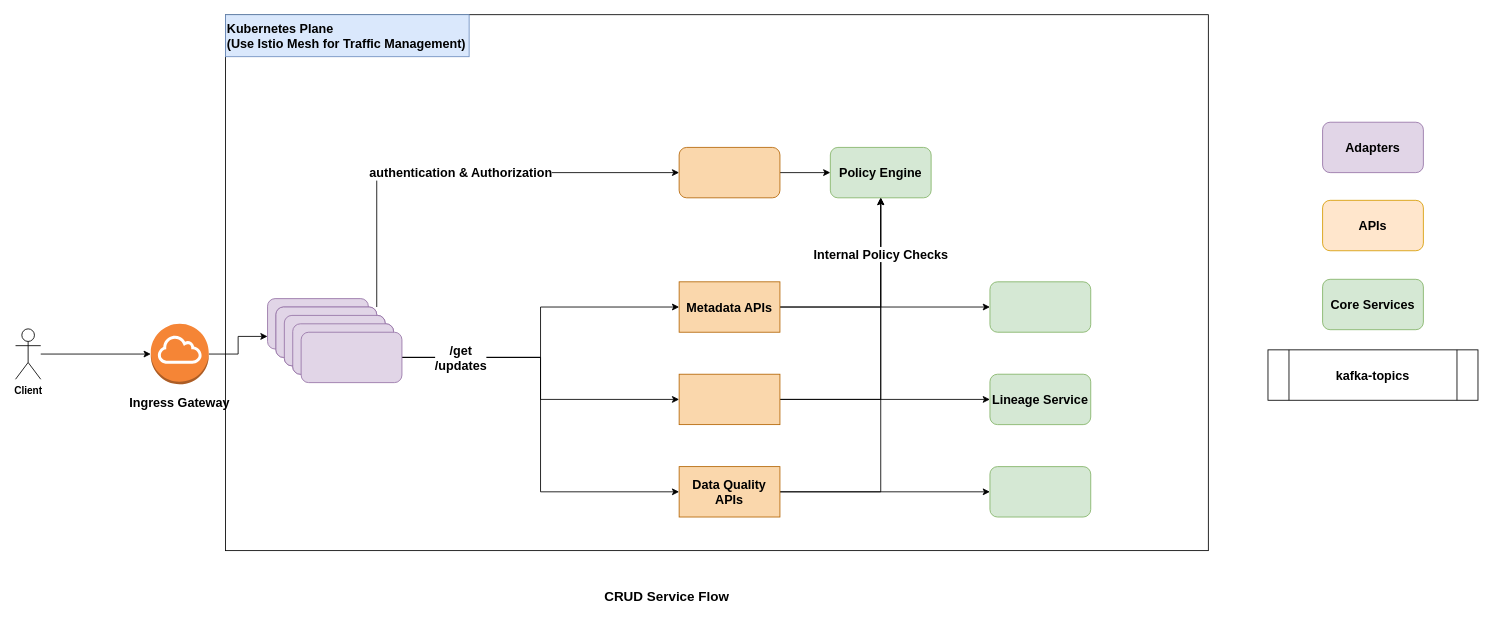
Some shapes in this 1493 by 624 pixel diagram are drawn without their labels. The centre of each missing label's shape, as x and y in pixels:
"Client adapters" belongs at (351,357).
"Data Quality Service" belongs at (1040,491).
"Lineage APIs" belongs at (729,399).
"Metadata Service" belongs at (1040,306).
"Policy APIs" belongs at (729,172).
